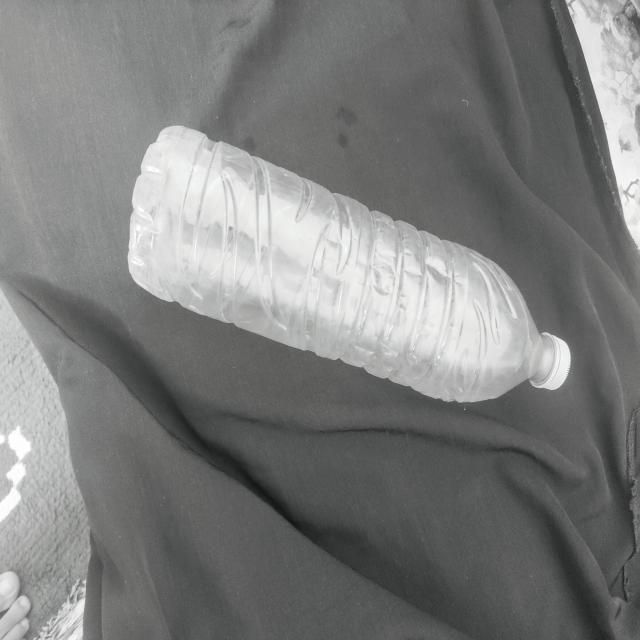plastic: (130, 125, 573, 423)
